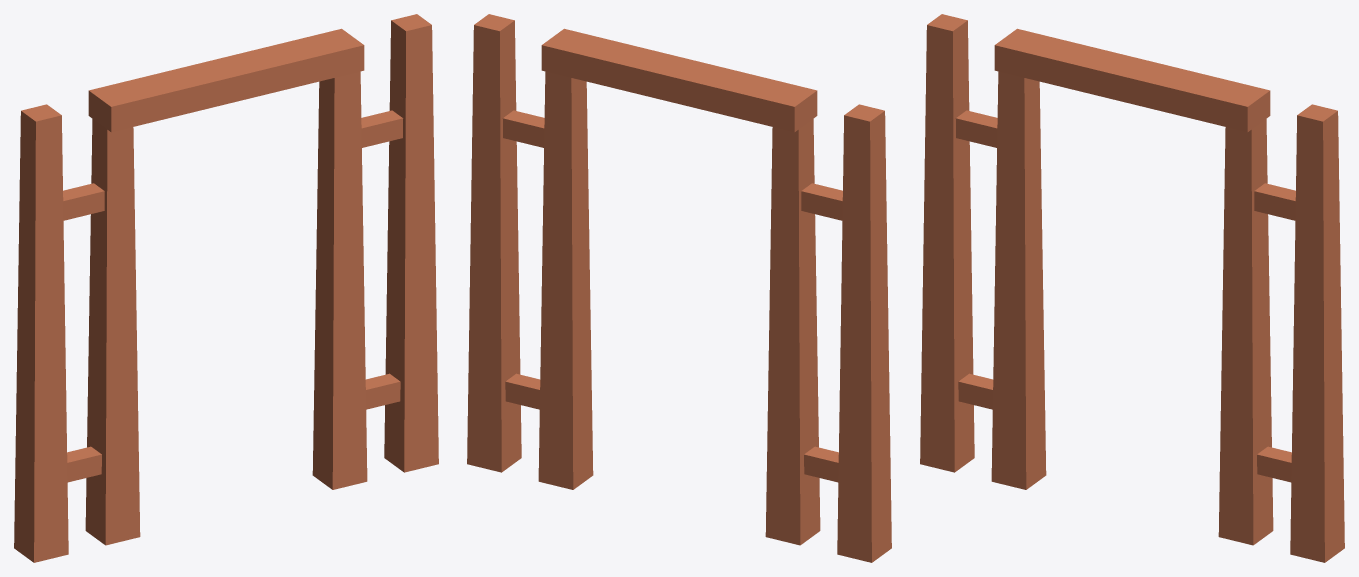
File: fence-doorway.obj
The picture shows the model from 3 angles, left to right: view 1: azimuth 30°, elevation 25°; view 2: azimuth 150°, elevation 25°; view 3: azimuth 330°, elevation 25°; orthographic projection.
Bounding box in the file's own units: 0.5 × 0.5175 × 0.0481.
